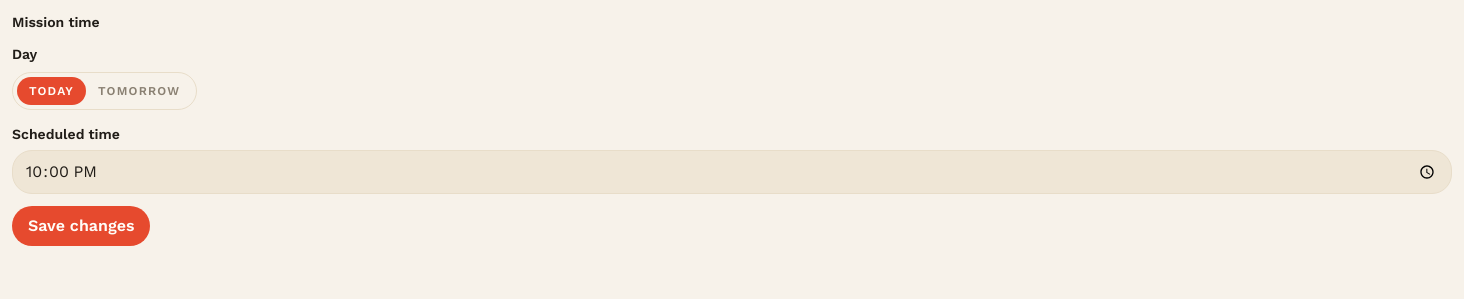
EditRallyScheduleForm › shows validation error for invalid rally time
Replace the text in the time field showing "22:00" with "01:00" at (732, 172), box [12,150,1452,194]
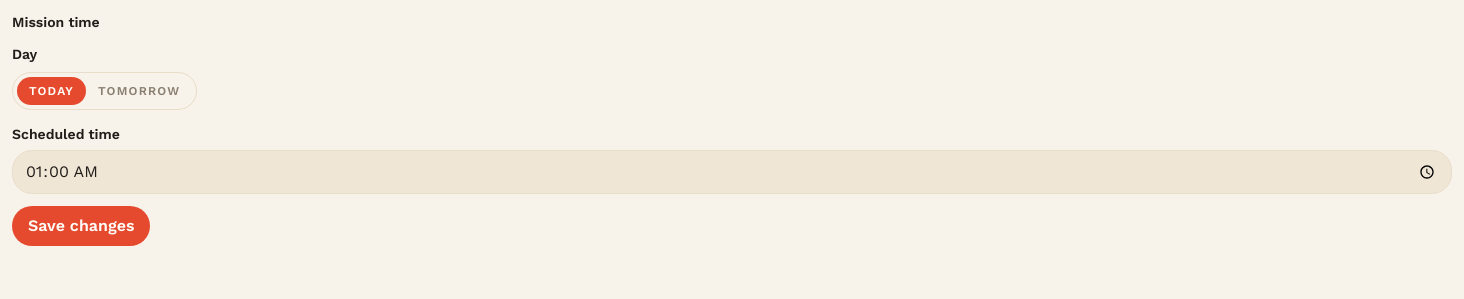
Click the button "Save changes" at (81, 226), box [12,206,150,246]
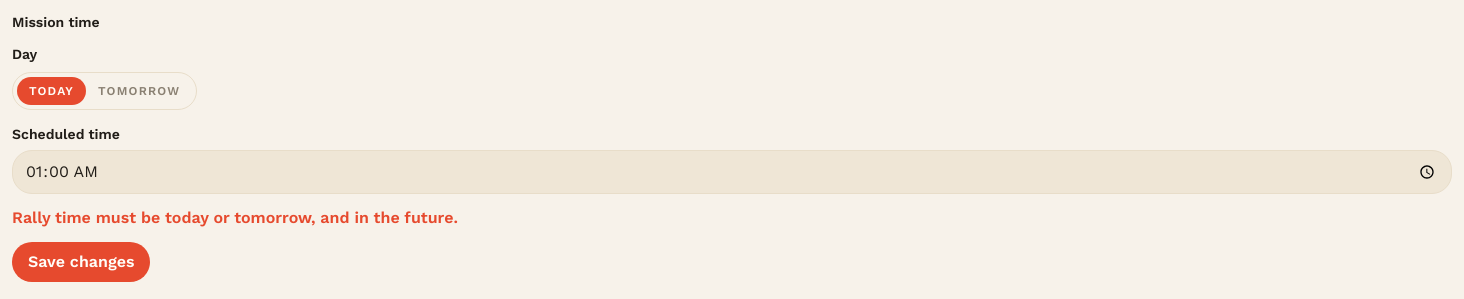
Expected: the text "Rally time must be today or tomorrow, and in the future." is shown, [12,208,458,227]
